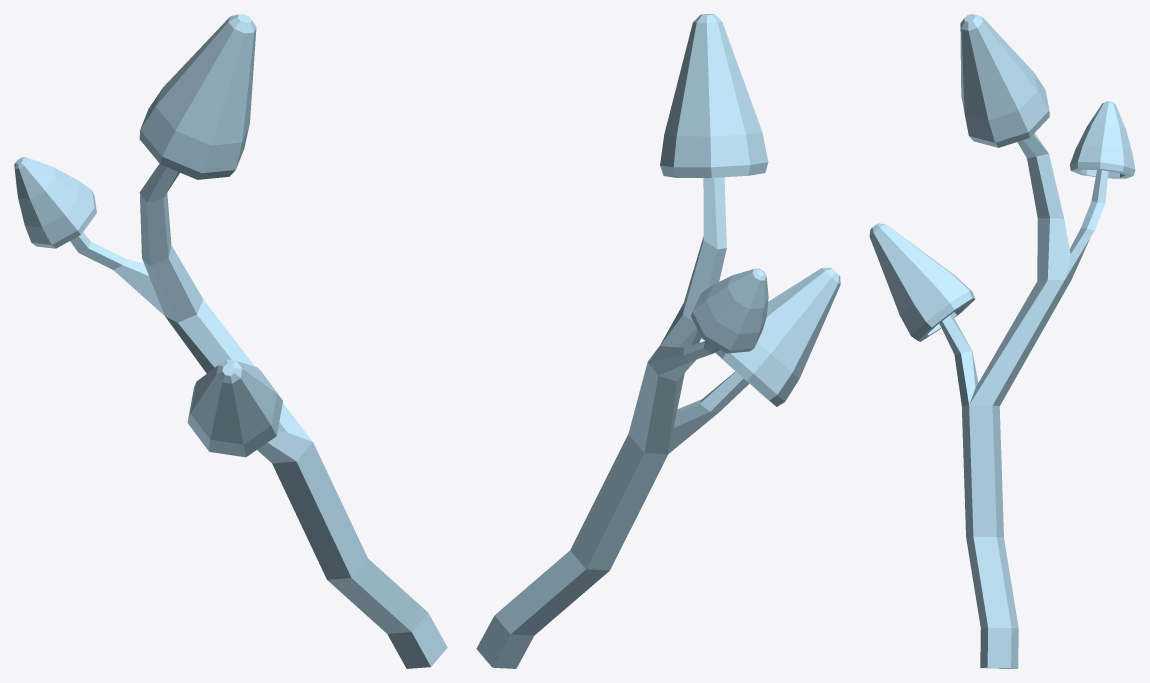
File: Mushrooms_15.fbx
3 renders of one model, left to right at view 1: azimuth 30°, elevation 25°; view 2: azimuth 150°, elevation 25°; view 3: azimuth 270°, elevation 25°, orthographic. The views are drawn at different scales.
Parts seen in each view (by area): view 1: Mushrooms_15; view 2: Mushrooms_15; view 3: Mushrooms_15.
Boxes of the visible parts, box(x1,y1,x2,y2) form: Mushrooms_15: box(14, 14, 447, 668); Mushrooms_15: box(476, 14, 840, 668); Mushrooms_15: box(869, 14, 1135, 668).
Size of the model in its own units: 0.5653 by 0.4437 by 1.07.
